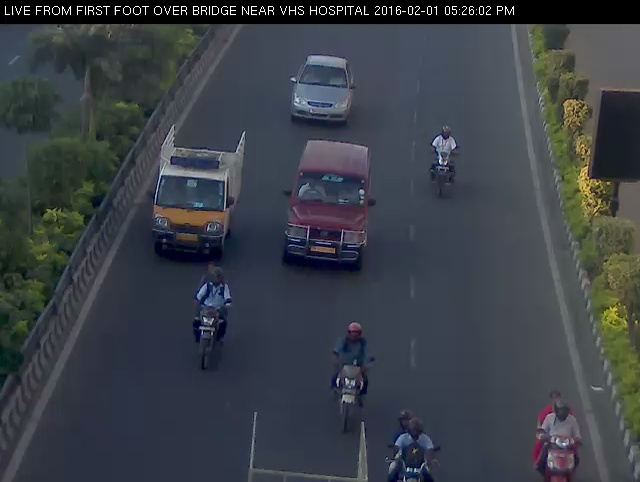Auto: (143, 117, 251, 268)
Car: (276, 132, 382, 278), (279, 43, 363, 129)
Person: (320, 313, 385, 435), (186, 261, 238, 379), (527, 384, 588, 480), (376, 398, 446, 479), (420, 118, 467, 205)
